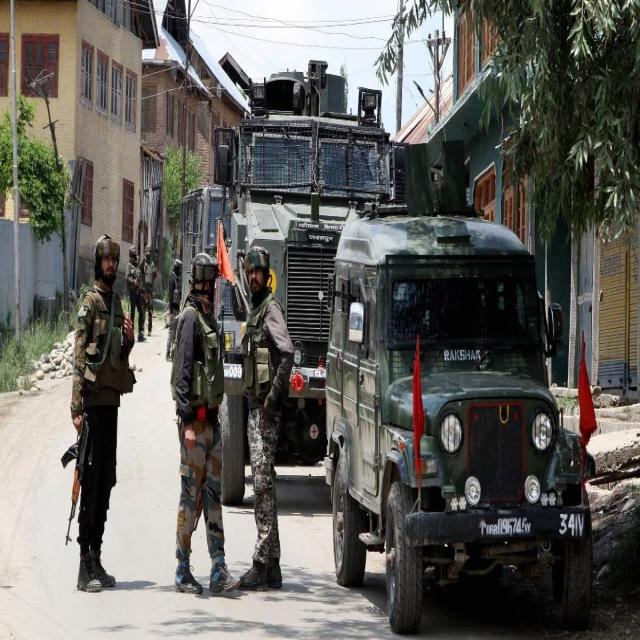military-plate: (478, 515, 533, 540)
unit number: (558, 510, 586, 539)
